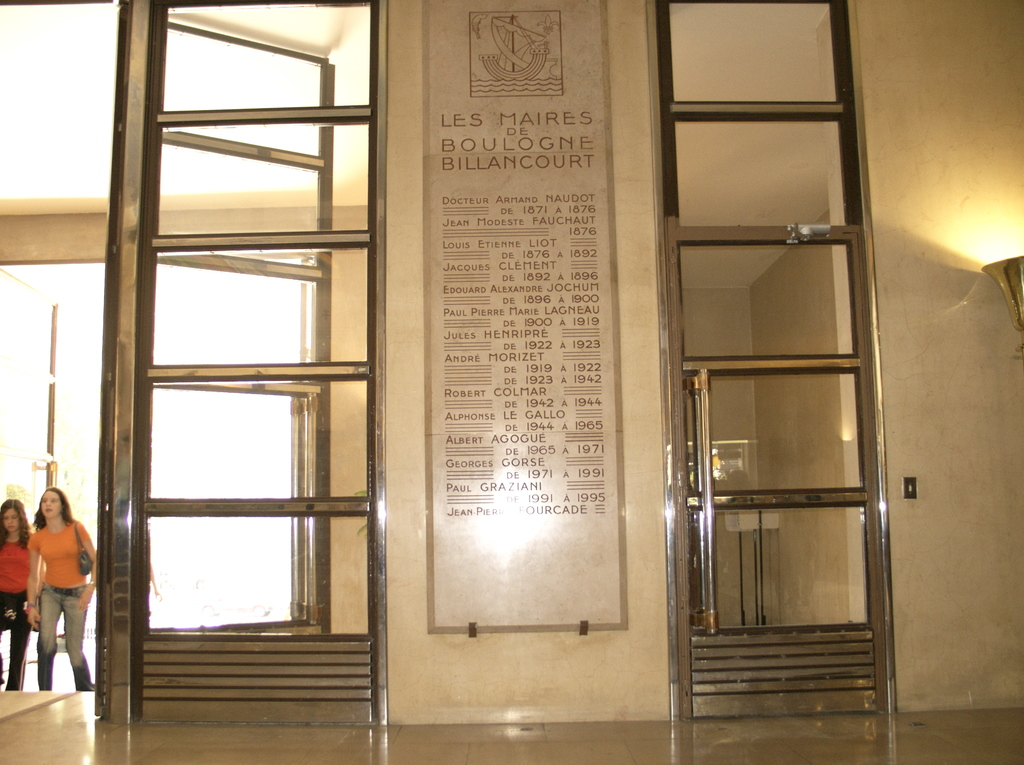door: (167, 30, 332, 678), (670, 237, 872, 745)
handle: (687, 360, 730, 629)
